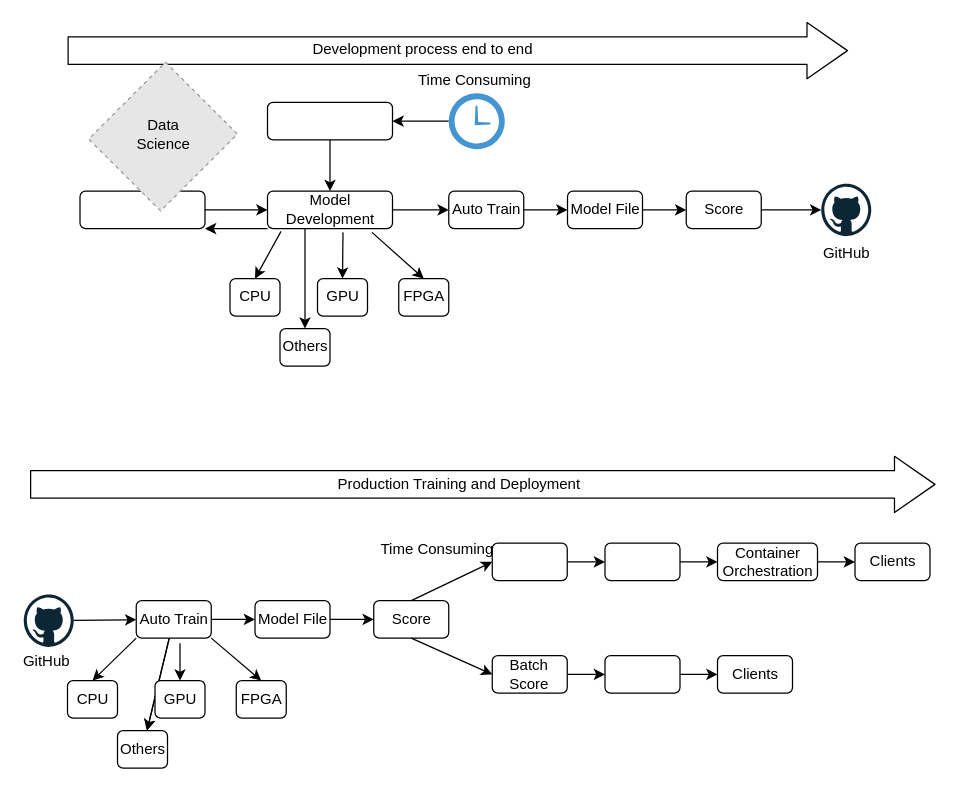
Image size: 958x790. Some labels were removed from this diagram. Grey dashed boxes stand in for pictures. Here are the shapes that lost their labels. From the top down, the centre of each, then its label:
At (x=329, y=120): "Data Scientists".
At (x=142, y=209): "Actual/Production Data".
At (x=529, y=561): "REST API".
At (x=642, y=561): "Docker Container".
At (x=642, y=673): "Storage".
